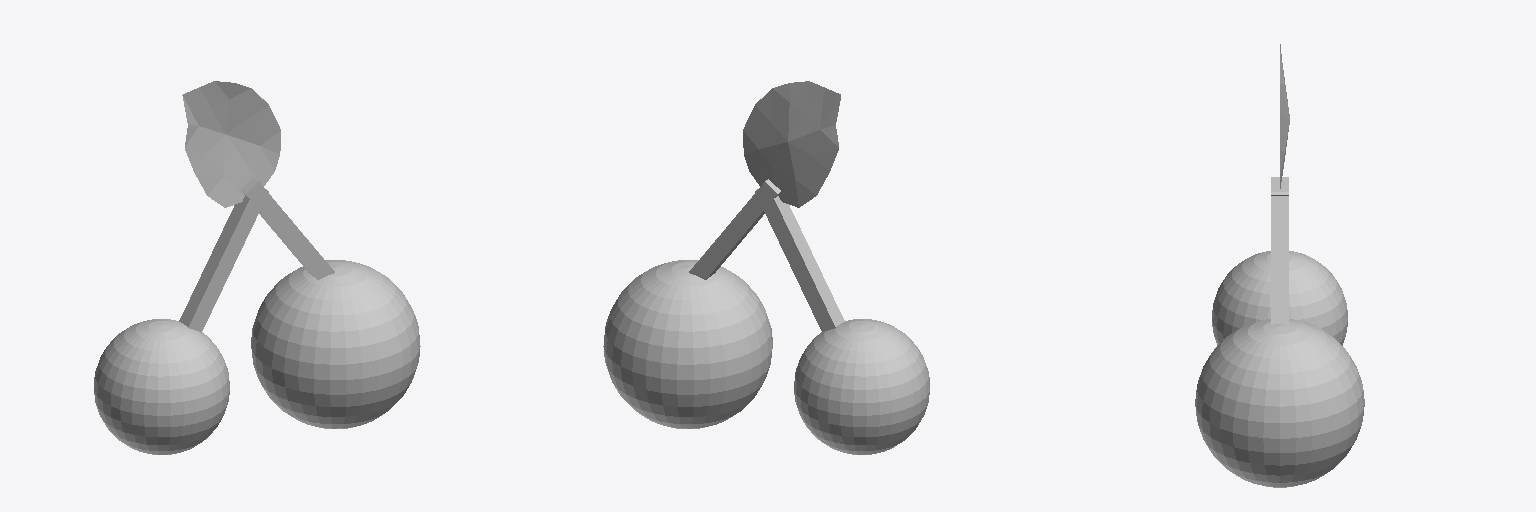
The model's file is cherry.obj.
3 renders of one model, left to right at view 1: azimuth 30°, elevation 25°; view 2: azimuth 150°, elevation 25°; view 3: azimuth 270°, elevation 25°, orthographic.
Parts seen in each view (by area): view 1: 구체, 구체.001, 평면, 큐브.001, 큐브; view 2: 구체, 구체.001, 평면, 큐브.001, 큐브; view 3: 구체, 구체.001, 큐브, 평면.
Part boxes in pixels (left/top/right/bottom): 구체: left=251, top=260, right=420, bottom=428; 구체.001: left=94, top=319, right=229, bottom=454; 평면: left=182, top=81, right=280, bottom=207; 큐브.001: left=179, top=187, right=268, bottom=332; 큐브: left=241, top=177, right=334, bottom=279; 구체: left=603, top=260, right=772, bottom=428; 구체.001: left=794, top=319, right=929, bottom=454; 평면: left=743, top=81, right=840, bottom=207; 큐브.001: left=755, top=188, right=844, bottom=332; 큐브: left=689, top=179, right=781, bottom=279; 구체: left=1195, top=319, right=1364, bottom=487; 구체.001: left=1212, top=251, right=1347, bottom=345; 큐브: left=1271, top=177, right=1288, bottom=324; 평면: left=1280, top=44, right=1289, bottom=188.
Size of the model in its own units: 1.31 by 1.51 by 0.6301.